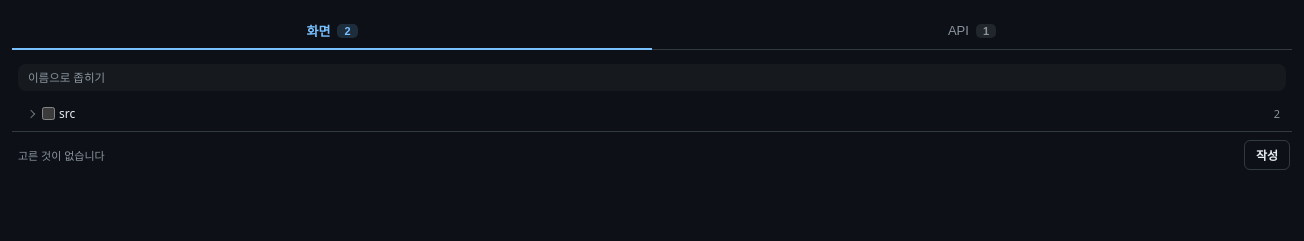
뷰가 여럿이면 탭으로 갈린다 › 배지는 **좁힌 것 / 그 탭 전부**다 — 여전히 고른 개수가 아니다
Click the button named "펼치기": (31, 114) x1=24 y1=106 x2=38 y2=120
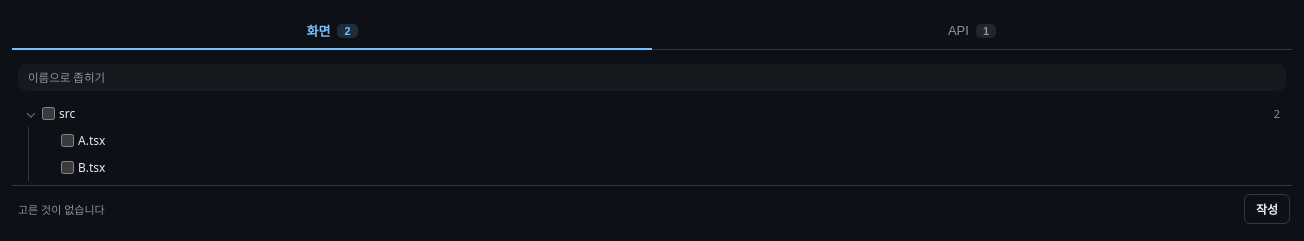
Click the checkbox named "A.tsx": (68, 140) x1=61 y1=134 x2=74 y2=147
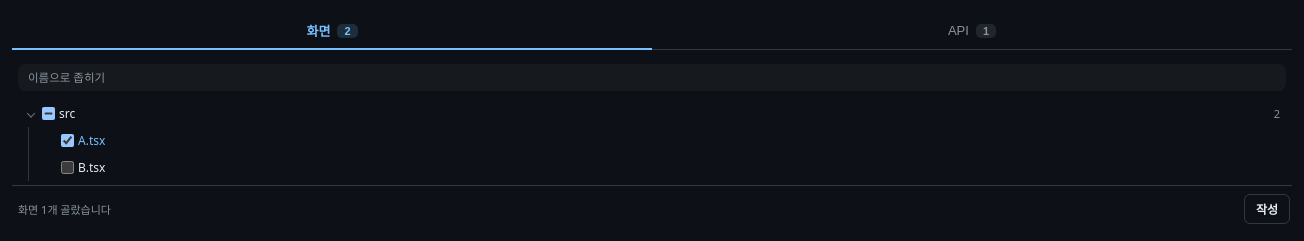
Check: the tab "화면 2" is shown, box x1=12 y1=14 x2=652 y2=50
In the search field with placeholder "이름으로 좁히기": (652, 78) x1=18 y1=64 x2=1286 y2=91, type "A.tsx"
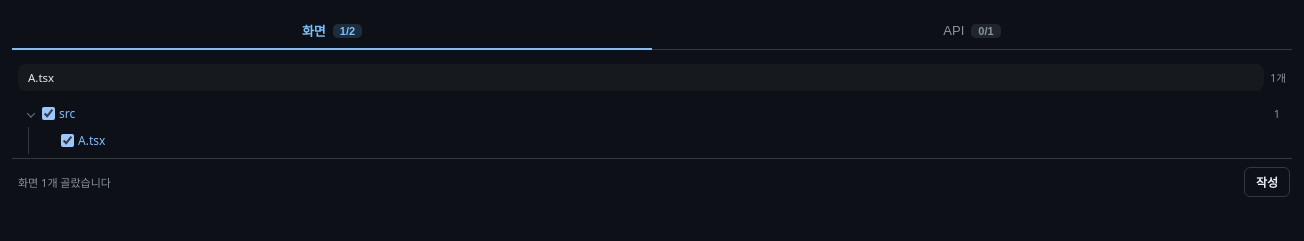
Check: the tab "화면 1/2" is shown, box x1=12 y1=14 x2=652 y2=50
Check: the tab "API 0/1" is shown, box x1=652 y1=14 x2=1292 y2=50
